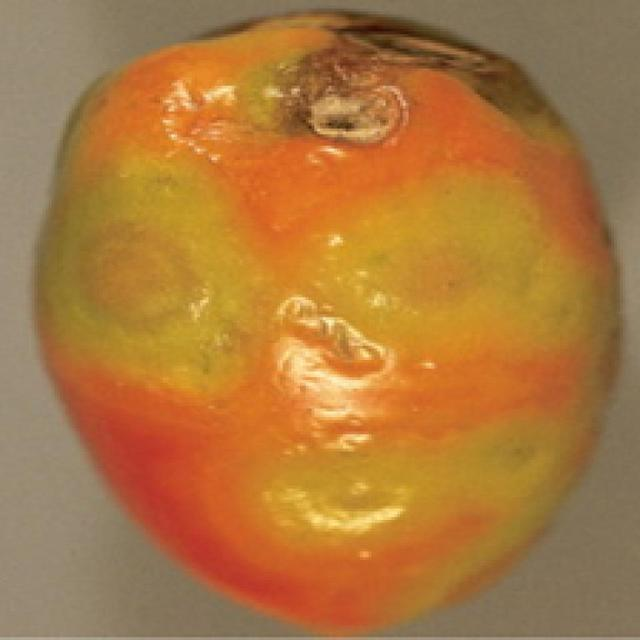Spotted wilt Virus Fruit: (23, 3, 414, 421)
